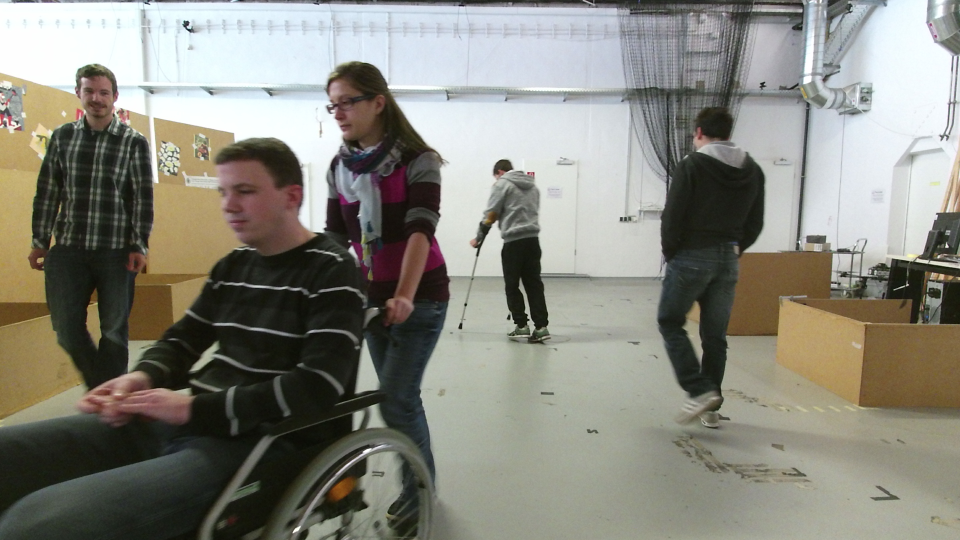crutches: (456, 147, 555, 349)
